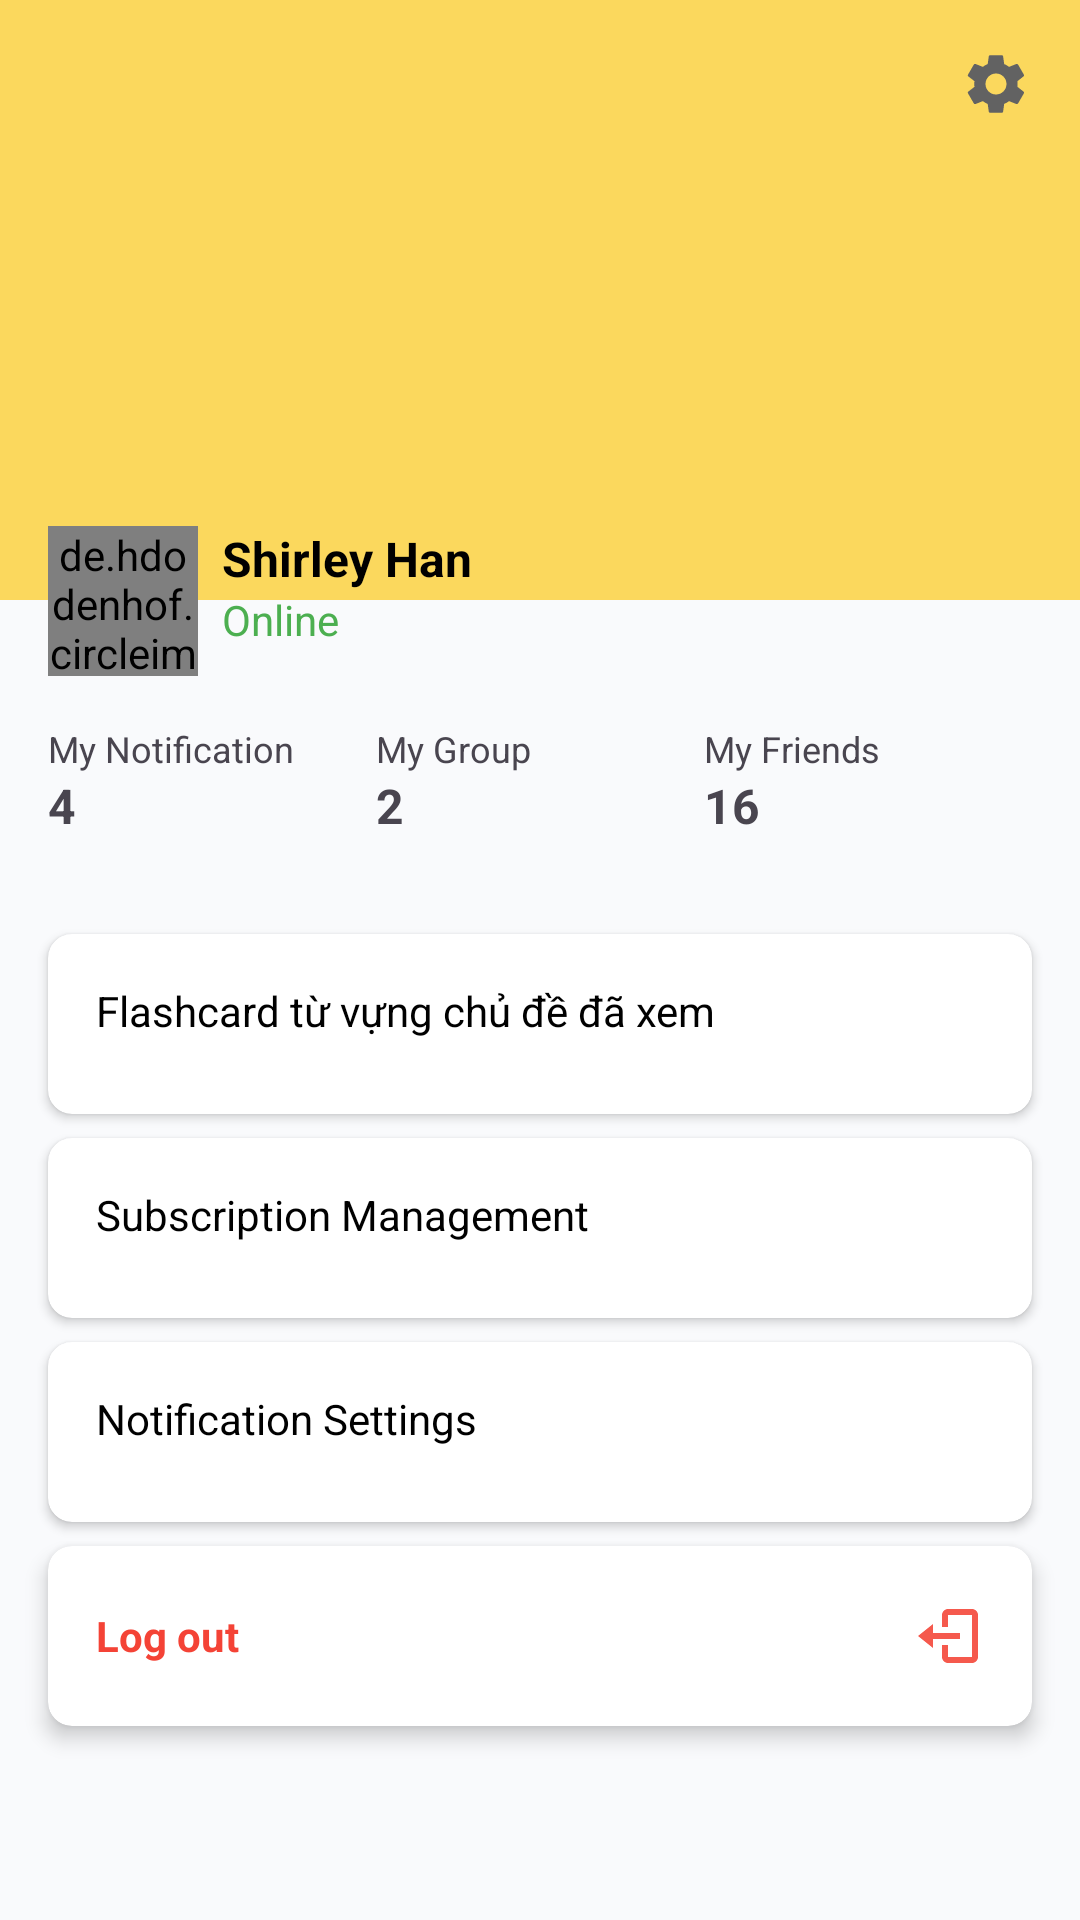

Icon click points for this 1080*1920 phone screenshot, format (x=x, y=y):
setting: (x=995, y=84)
